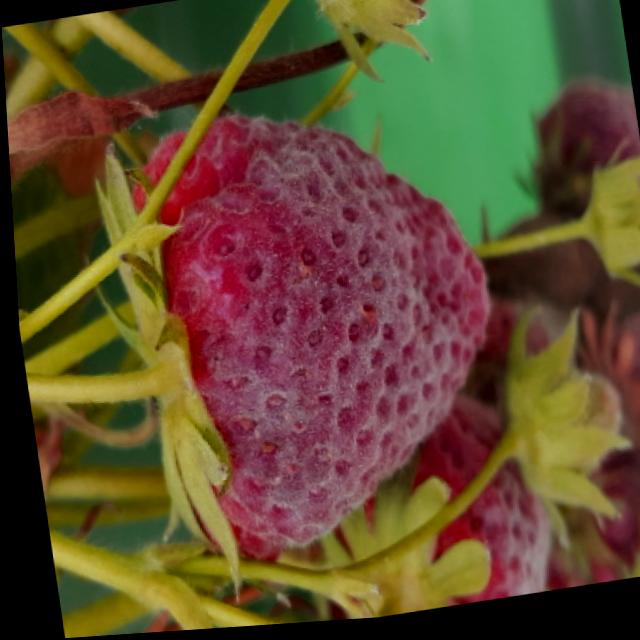Powdery Mildew Fruit: (121, 113, 488, 564)
